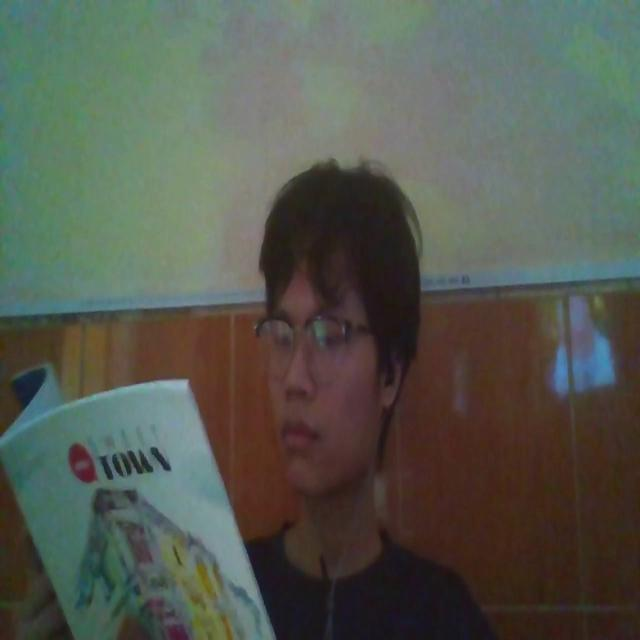book: (1, 357, 279, 640)
student: (218, 155, 495, 640)
